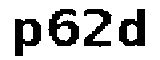2: (82, 6, 115, 52)
6: (46, 5, 80, 50)
d: (117, 6, 149, 50)
p: (11, 15, 41, 60)
